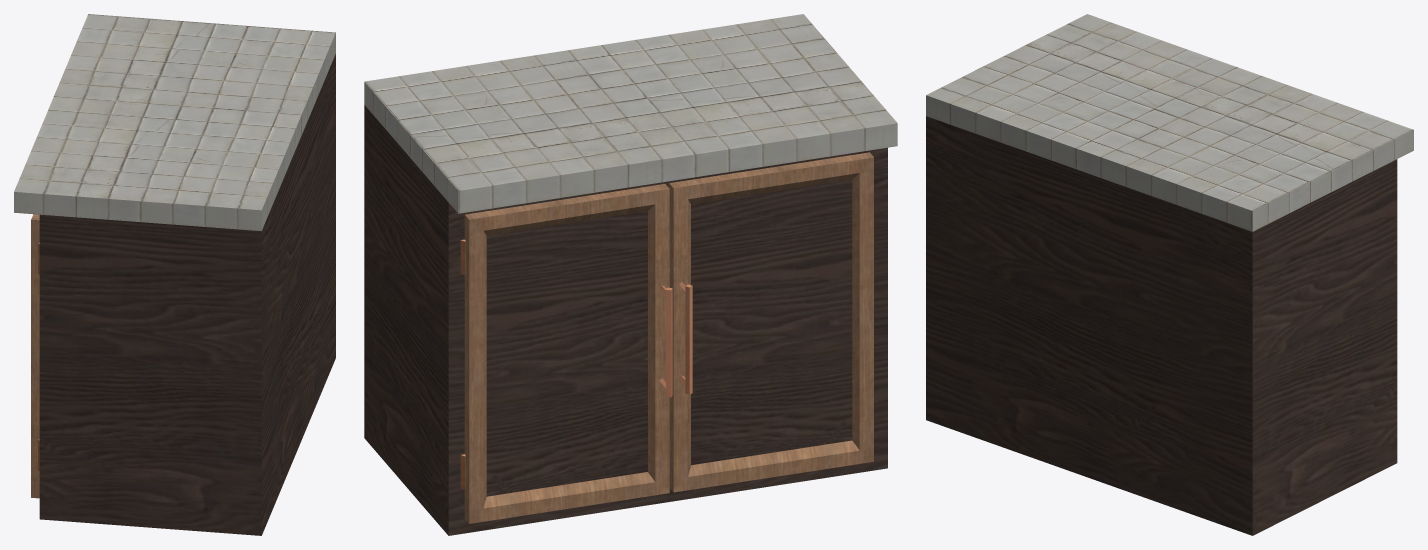
3 views of the same model, side by side, from view 1: azimuth 30°, elevation 25°; view 2: azimuth 150°, elevation 25°; view 3: azimuth 270°, elevation 25° (orthographic). The views are drawn at different scales.
Visible parts, largest first — view 1: Cube053_Wood_05001_0, Cube053_Tiles001_0, Cube055_Wood_02001_0; view 2: Cube053_Tiles001_0, Cube053_Wood_05001_0, Cube054_Wood_05001_0, Cube055_Wood_05001_0, Cube054_Wood_02001_0, Cube055_Wood_02001_0, Cube054_Metal_06001_0, Cube055_Metal_06001_0; view 3: Cube053_Wood_05001_0, Cube053_Tiles001_0.
Boxes of the visible parts, x1,y1,x2,y2 form: Cube053_Wood_05001_0: [39, 54, 335, 535]; Cube053_Tiles001_0: [14, 14, 335, 231]; Cube055_Wood_02001_0: [31, 214, 39, 498]; Cube053_Tiles001_0: [364, 14, 897, 213]; Cube053_Wood_05001_0: [364, 105, 887, 535]; Cube054_Wood_05001_0: [486, 211, 647, 496]; Cube055_Wood_05001_0: [691, 179, 852, 465]; Cube054_Wood_02001_0: [464, 184, 669, 523]; Cube055_Wood_02001_0: [669, 152, 873, 492]; Cube054_Metal_06001_0: [460, 239, 672, 489]; Cube055_Metal_06001_0: [679, 282, 692, 394]; Cube053_Wood_05001_0: [926, 116, 1397, 535]; Cube053_Tiles001_0: [926, 14, 1413, 231].
Bounding box in the file's own units: 1.28 × 0.9804 × 1.33.
Materials: 4 (4 with a texture image).
